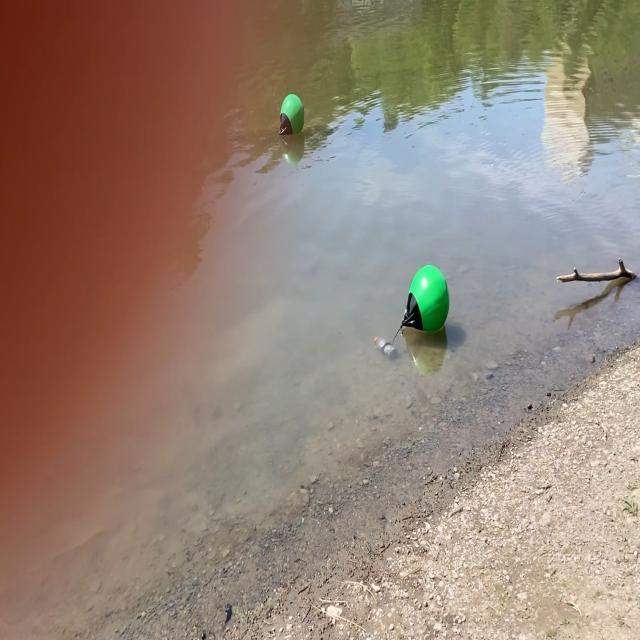buoy: (400, 262, 450, 336), (278, 94, 306, 140)
